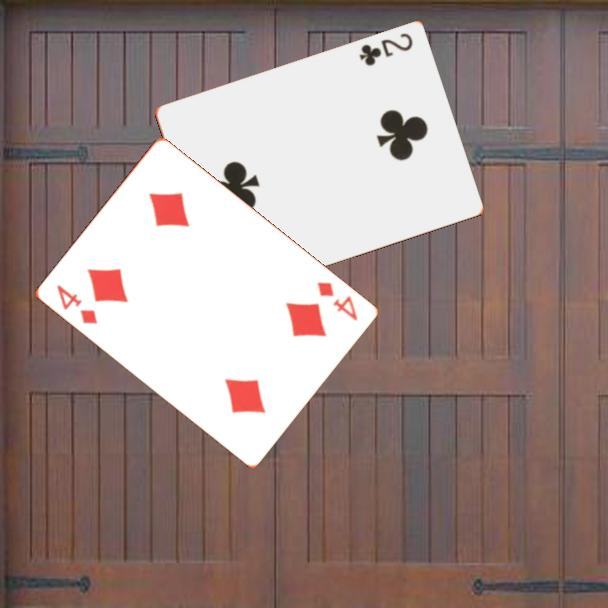c02: (355, 30, 416, 69)
d04: (52, 281, 100, 327), (313, 278, 360, 324)
